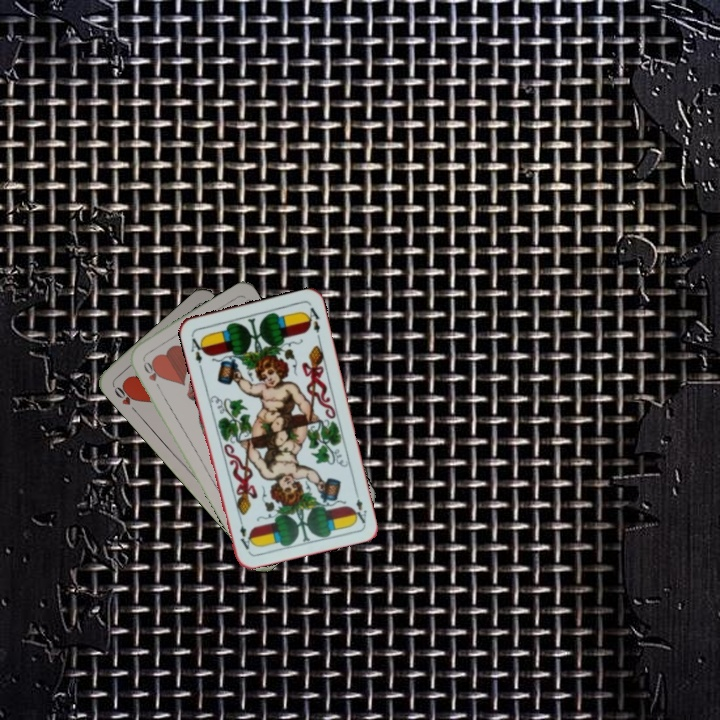EA: (349, 486, 369, 526), (186, 331, 208, 366)
HO: (109, 380, 140, 415), (139, 356, 163, 393)
